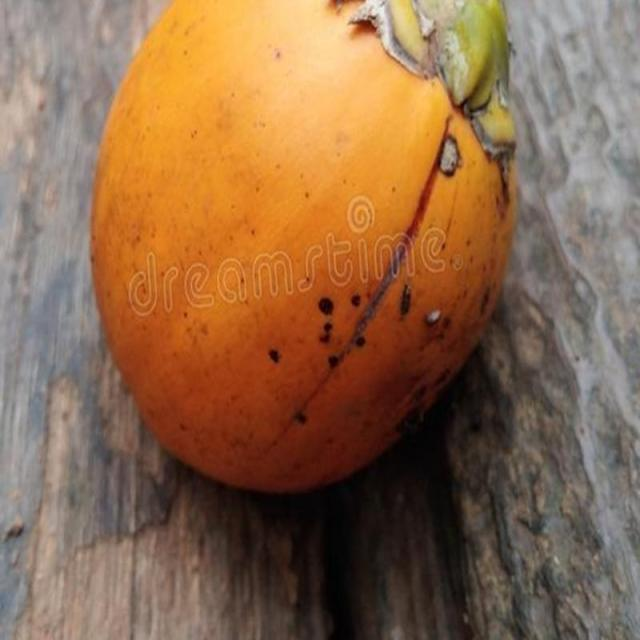good: (88, 0, 519, 498)
